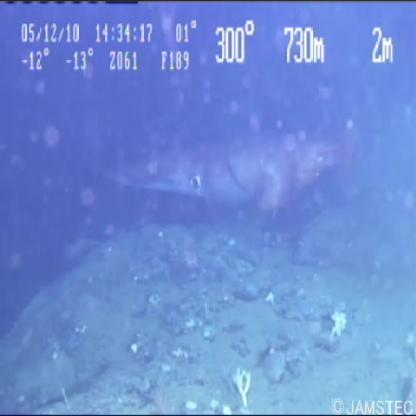Bio: (99, 120, 366, 217)
